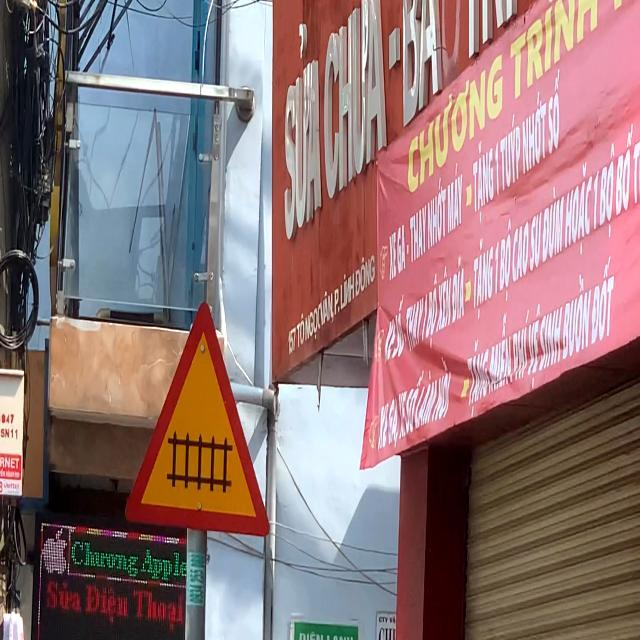W-210: (124, 299, 270, 536)
